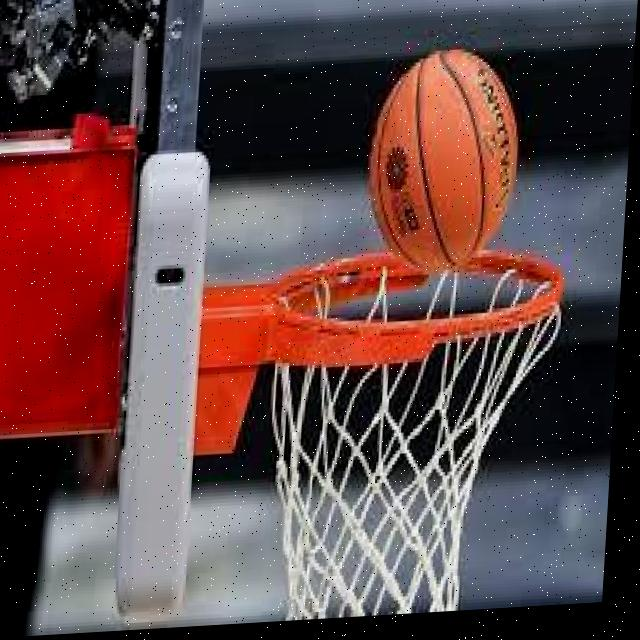Basketball: (361, 43, 520, 273)
